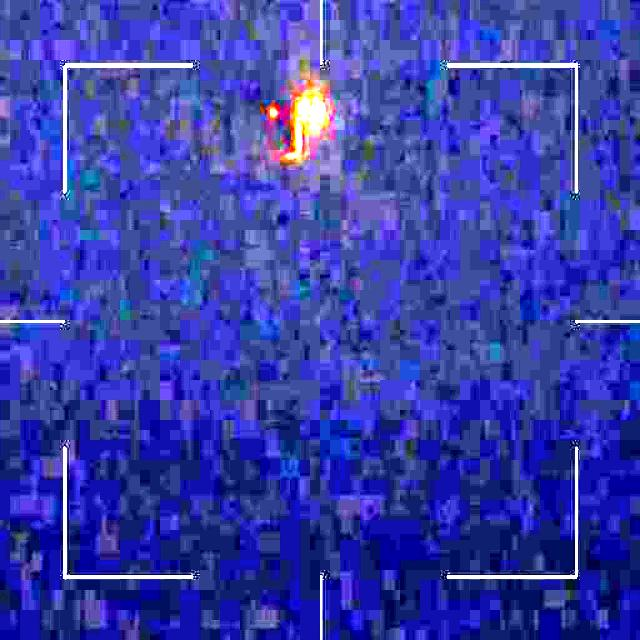bird: (254, 82, 326, 168)
